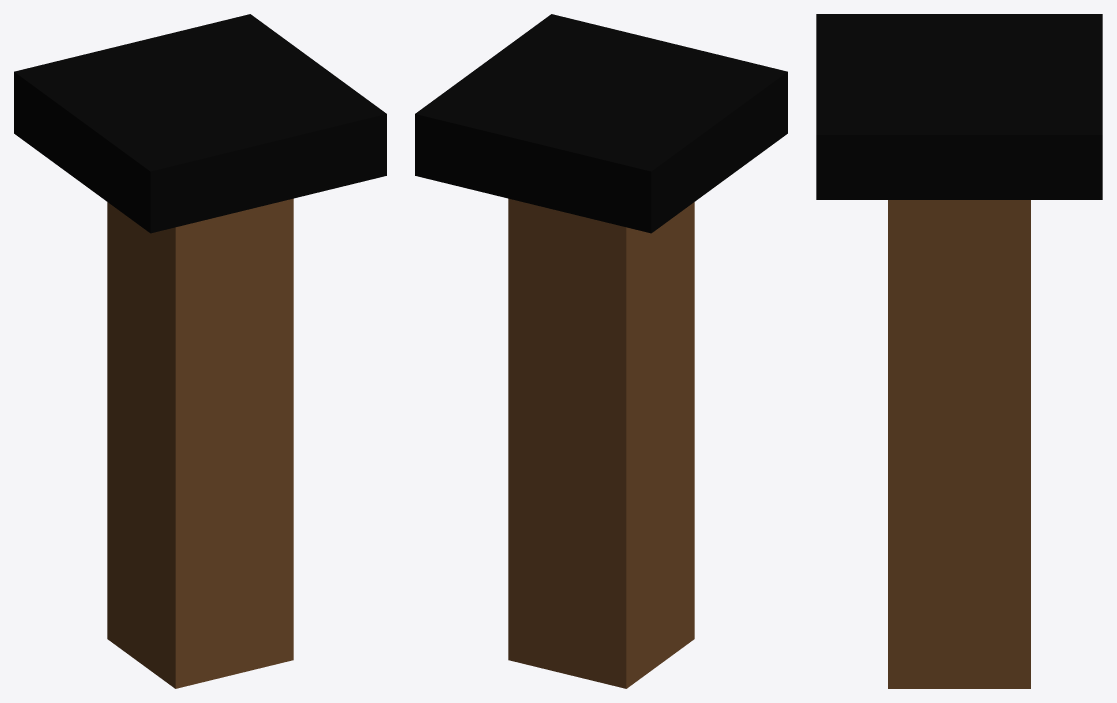
File: Pedestal.dae
3 renders of one model, left to right at view 1: azimuth 30°, elevation 25°; view 2: azimuth 150°, elevation 25°; view 3: azimuth 270°, elevation 25°, orthographic. The views are drawn at different scales.
Parts seen in each view (by area): view 1: Pedestal; view 2: Pedestal; view 3: Pedestal.
Part boxes in pixels (bbox=[...]): Pedestal: bbox=[14, 14, 386, 688]; Pedestal: bbox=[415, 14, 787, 688]; Pedestal: bbox=[816, 14, 1102, 688].
Bounding box in the file's own units: 4 × 9 × 4.
1 material, 1 textured.
